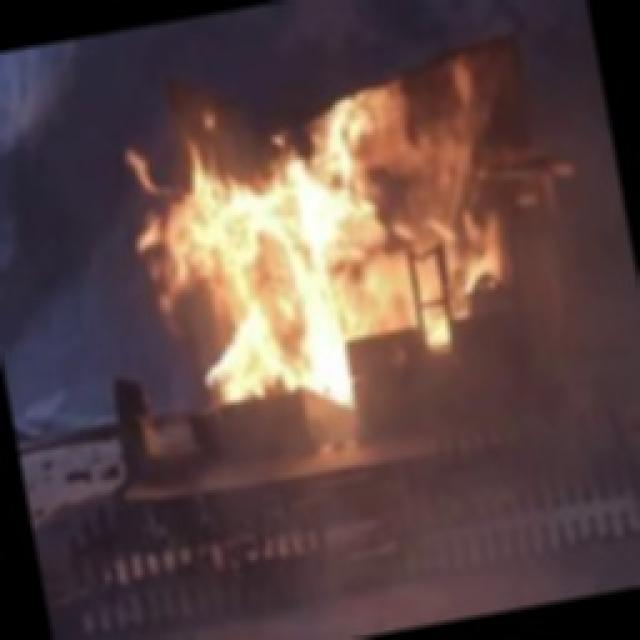fire: (116, 56, 542, 414)
